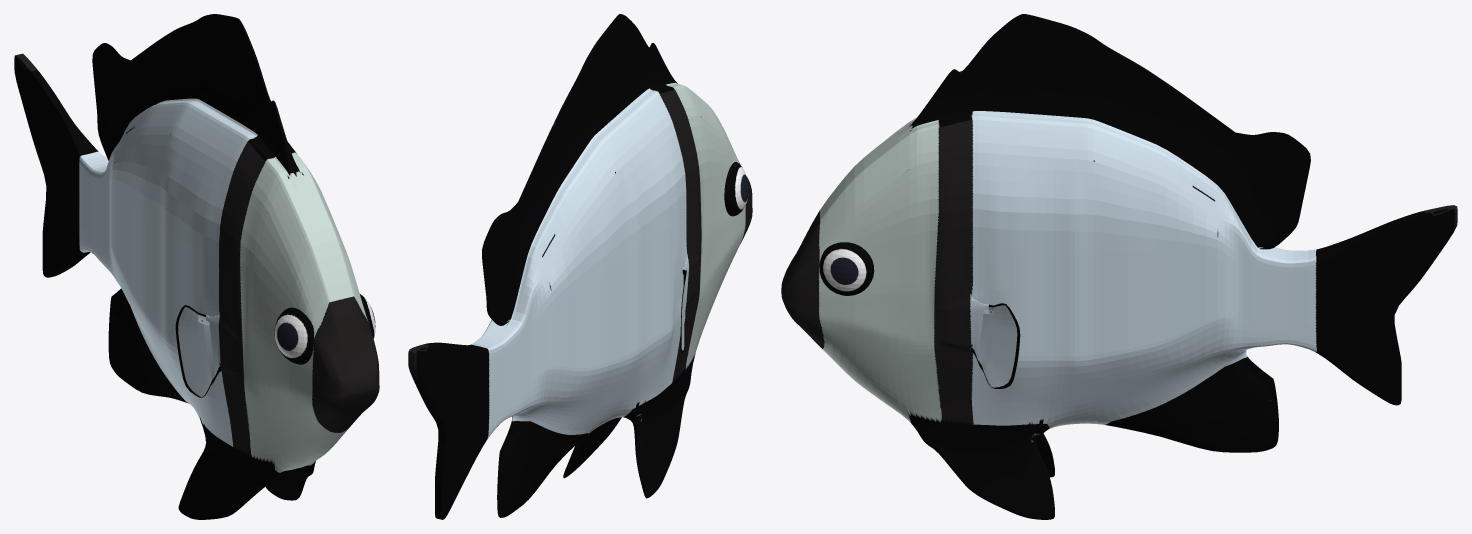
Rendered from damselfish.fbx.
3 renders of one model, left to right at view 1: azimuth 30°, elevation 25°; view 2: azimuth 150°, elevation 25°; view 3: azimuth 270°, elevation 25°, orthographic. The views are drawn at different scales.
Parts seen in each view (by area): view 1: Cube; view 2: Cube; view 3: Cube.
Boxes of the visible parts, x1,y1,x2,y2 form: Cube: (14, 14, 379, 519); Cube: (408, 14, 752, 519); Cube: (781, 14, 1457, 519).
Bounding box in the file's own units: 0.0777 × 0.2832 × 0.3581.
2 materials, 2 textured.
